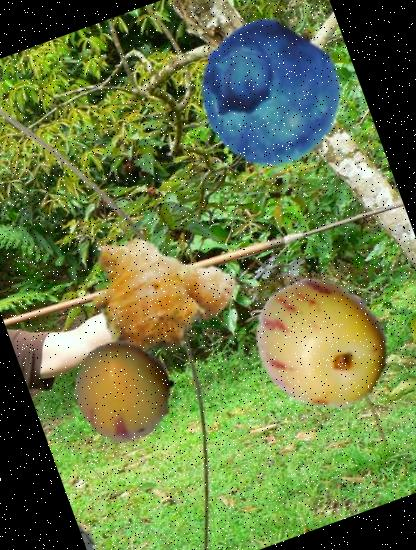Ginger: (69, 194, 255, 380)
Huckleberry: (177, 2, 362, 187)
Pepino: (235, 256, 408, 428), (61, 328, 190, 457)
